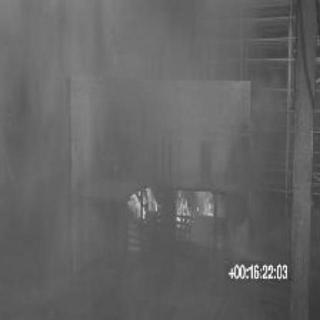Fire: (173, 184, 230, 224)
